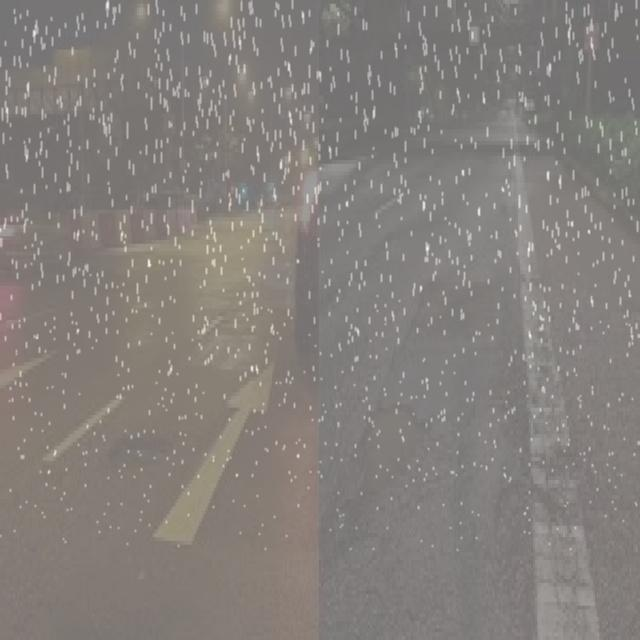Pothole: (388, 243, 515, 399), (366, 395, 435, 497), (100, 426, 192, 476)
